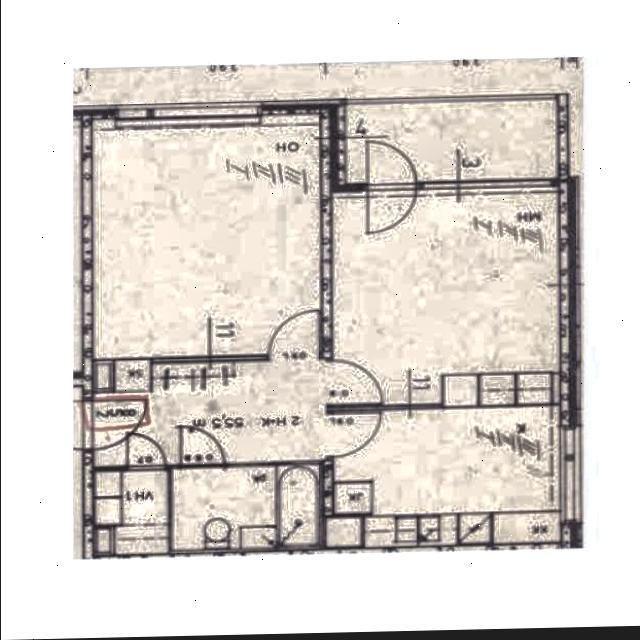room: (90, 114, 322, 359), (330, 193, 559, 405), (322, 405, 562, 547), (89, 357, 325, 468), (329, 99, 558, 186)
